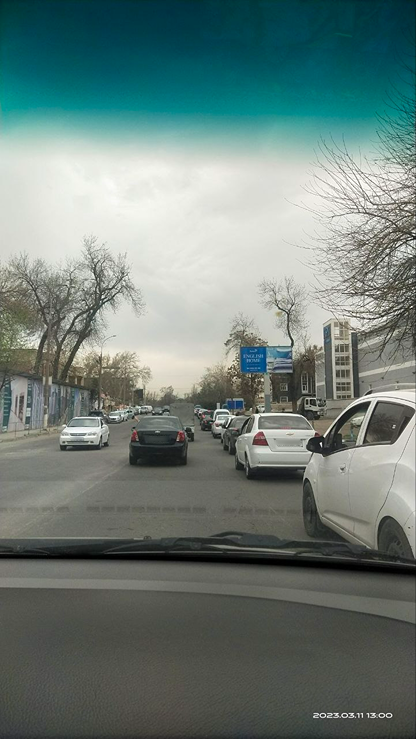car: (309, 386, 416, 561), (126, 407, 192, 460), (239, 415, 310, 463), (50, 410, 112, 447), (224, 418, 246, 443), (213, 415, 228, 431), (200, 415, 211, 431), (111, 409, 122, 423)
tree: (0, 232, 153, 385), (315, 130, 416, 350), (260, 274, 318, 409), (222, 313, 258, 402), (150, 407, 164, 415)
